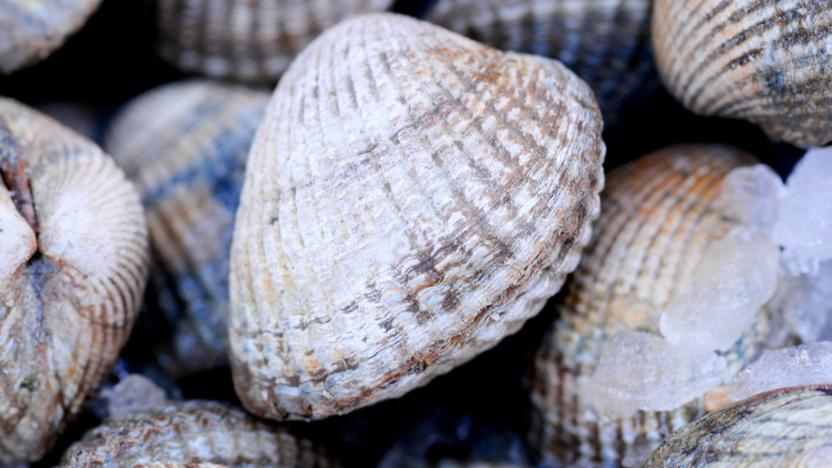cockle: (218, 5, 607, 427), (535, 145, 773, 433), (1, 94, 155, 461), (101, 77, 274, 366), (642, 1, 832, 155)
